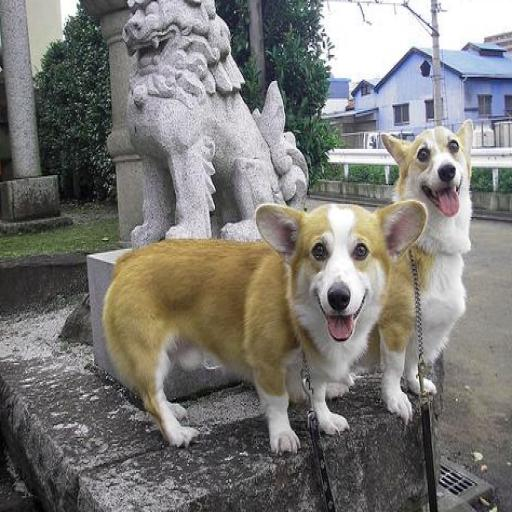dog_face: (244, 188, 420, 346), (372, 115, 477, 212)
